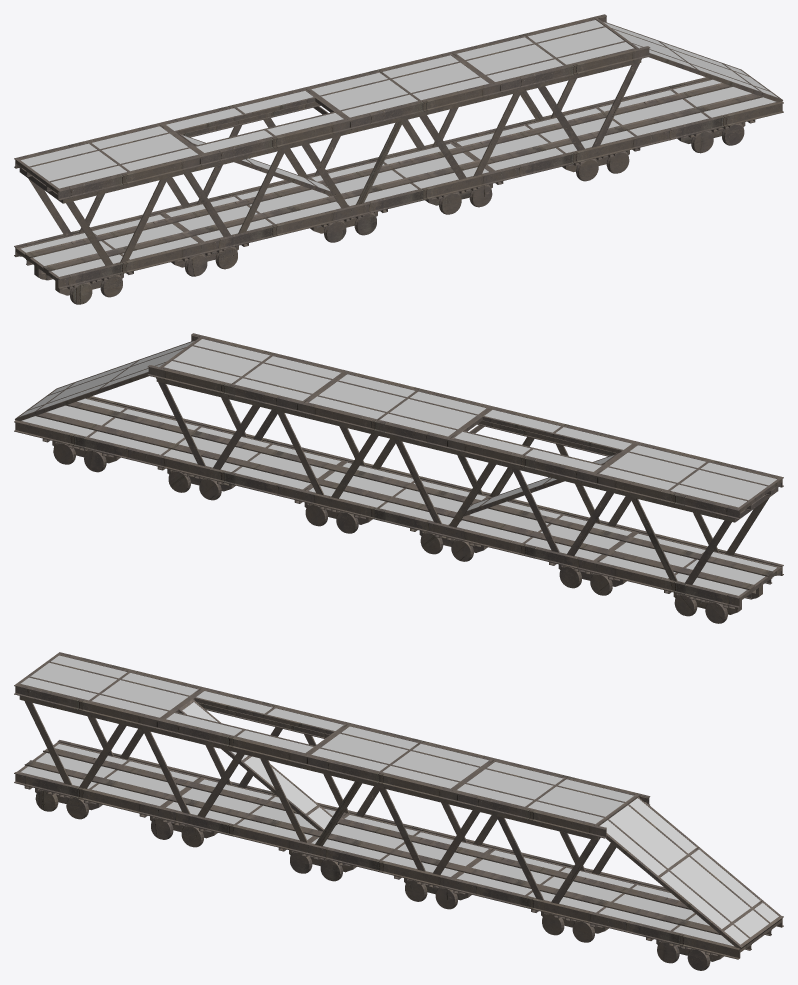
File: SM_Republic_02_01.001.fbx
The picture shows the model from 3 angles, top to bottom: view 1: azimuth 30°, elevation 25°; view 2: azimuth 150°, elevation 25°; view 3: azimuth 330°, elevation 25°; orthographic projection.
Visible parts, largest first — view 1: SM_Republic_02_01.001, SM_Republic_02_00.003, SM_Republic_02_00.002, SM_Republic_02_00.005; view 2: SM_Republic_02_01.001, SM_Republic_02_00.003, SM_Republic_02_00.002, SM_Republic_02_00.005; view 3: SM_Republic_02_01.001, SM_Republic_02_00.003, SM_Republic_02_00.002, SM_Republic_02_00.005.
Part boxes in pixels (x1,y1,x2,y2): SM_Republic_02_01.001: (14,14,783,304); SM_Republic_02_00.003: (21,20,633,188); SM_Republic_02_00.002: (21,79,775,276); SM_Republic_02_00.005: (182,22,777,190); SM_Republic_02_01.001: (14,333,783,623); SM_Republic_02_00.003: (164,339,776,507); SM_Republic_02_00.002: (22,398,776,595); SM_Republic_02_00.005: (20,341,614,510); SM_Republic_02_01.001: (14,652,783,970); SM_Republic_02_00.003: (20,655,633,823); SM_Republic_02_00.002: (20,744,733,946); SM_Republic_02_00.005: (182,702,778,944).
Size of the model in its own units: 4057 by 662 by 443.
